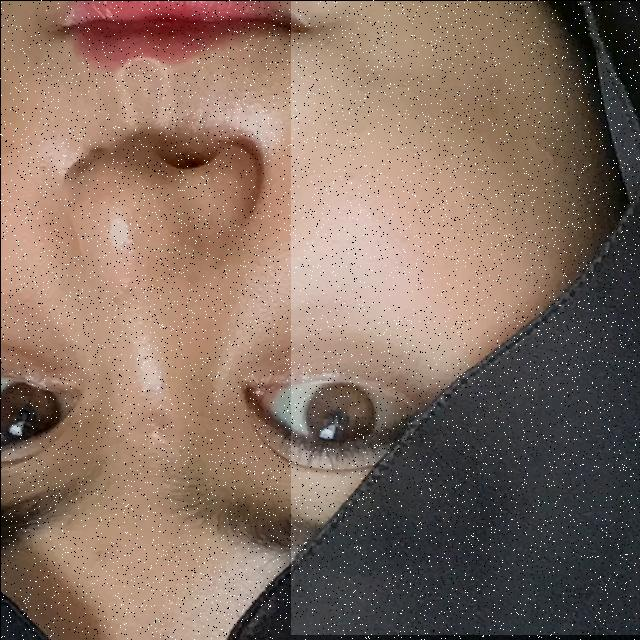mendengar: (290, 0, 640, 634)
